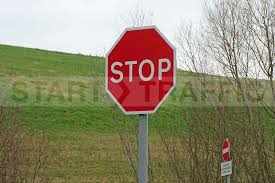stop sign: (103, 25, 179, 112)
